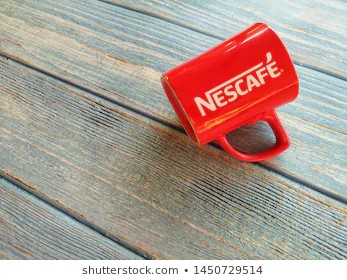nescafe-mug: (163, 18, 305, 162)
